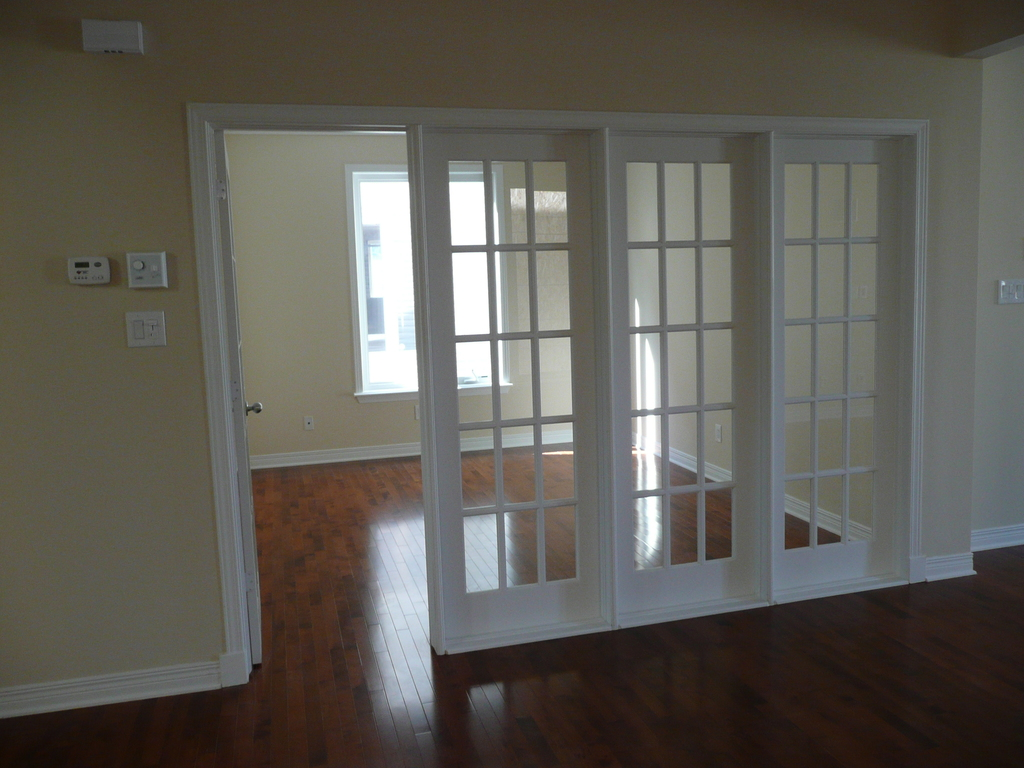Window: (346, 162, 513, 401)
